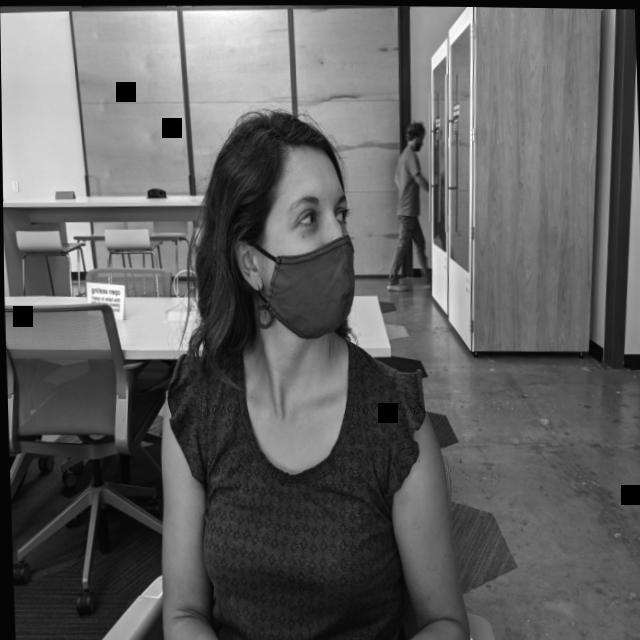Mask: (243, 156, 357, 340)
NO-Mask: (413, 127, 425, 150)
